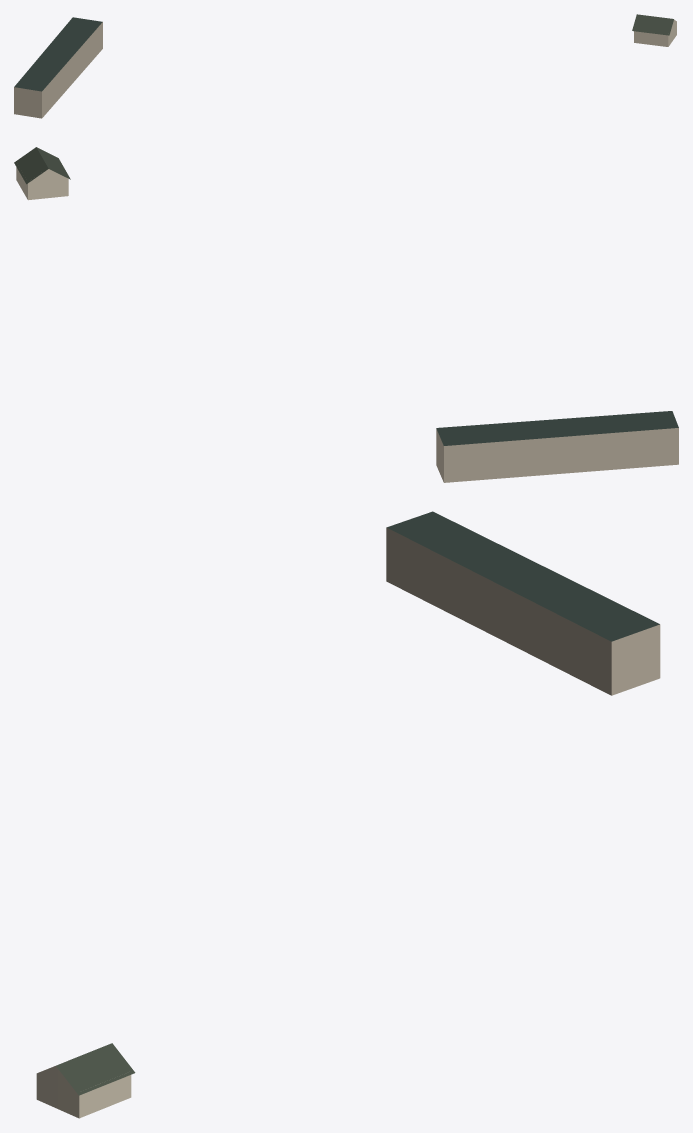
3 renders of one model, top to bottom at view 1: azimuth 30°, elevation 25°; view 2: azimuth 150°, elevation 25°; view 3: azimuth 270°, elevation 25°, orthographic. The views are drawn at different scales.
Parts seen in each view (by area): view 1: tuile; view 2: tuile; view 3: tuile.
Part boxes in pixels (x1=…): tuile: x1=14, y1=14, x2=676, y2=118; tuile: x1=14, y1=147, x2=678, y2=482; tuile: x1=36, y1=511, x2=660, y2=1118.
Bounding box in the file's own units: 158 × 7.08 × 74.49.
